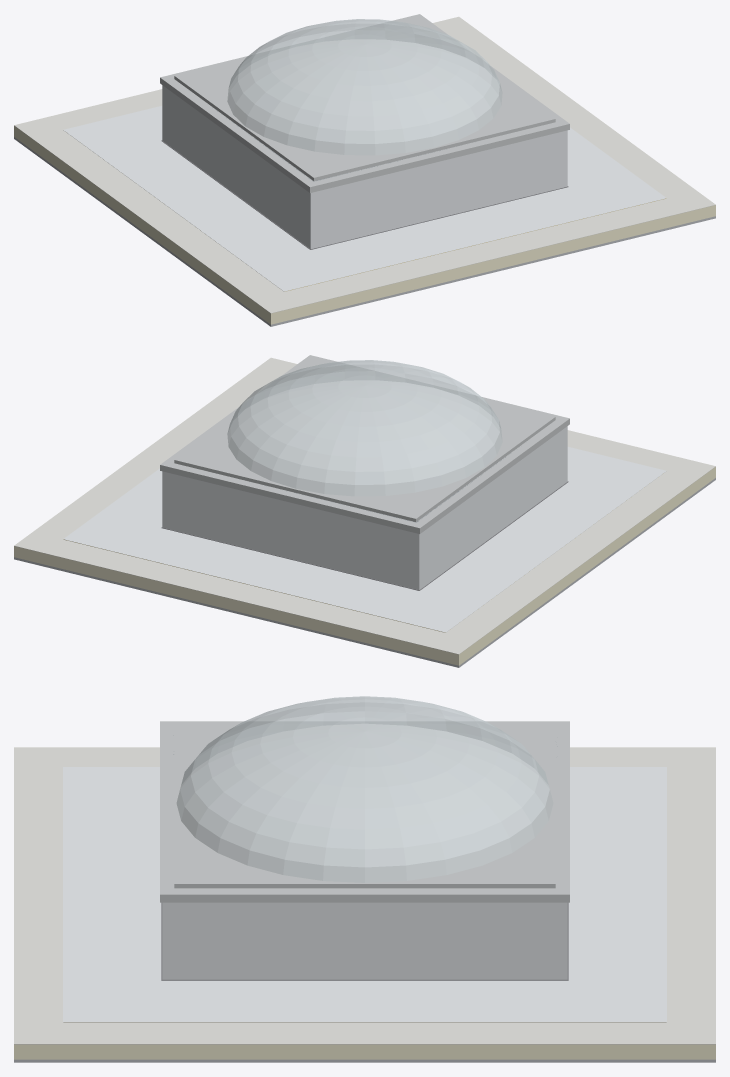
Rendered from curb-skylight-CS-1-TYP.glb.
The picture shows the model from 3 angles, top to bottom: view 1: azimuth 30°, elevation 25°; view 2: azimuth 150°, elevation 25°; view 3: azimuth 270°, elevation 25°; orthographic projection. The views are drawn at different scales.
Parts seen in each view (by area): view 1: existing__unit_dome_base, existing__unit_dome, topcoat__field_apron, existing__membrane, topcoat__curb_wrap, existing__insulation, existing__unit_frame, topcoat__curb_cap, existing__steel_deck; view 2: existing__unit_dome_base, existing__unit_dome, topcoat__field_apron, existing__membrane, topcoat__curb_wrap, existing__insulation, existing__unit_frame, topcoat__curb_cap, existing__steel_deck; view 3: topcoat__field_apron, existing__unit_dome_base, existing__unit_dome, existing__membrane, topcoat__curb_wrap, existing__unit_frame, existing__insulation, topcoat__curb_cap, existing__steel_deck, primer__sealant_bead_2, primer__field_apron.
Boxes of the visible parts, <box> form: existing__unit_dome_base: <box>174,17,555,180</box>; existing__unit_dome: <box>227,19,502,155</box>; topcoat__field_apron: <box>63,106,666,291</box>; existing__membrane: <box>14,16,715,313</box>; topcoat__curb_wrap: <box>162,89,567,249</box>; existing__insulation: <box>14,126,715,324</box>; existing__unit_frame: <box>160,14,569,192</box>; topcoat__curb_cap: <box>162,85,567,201</box>; existing__steel_deck: <box>14,137,715,326</box>; existing__unit_dome_base: <box>174,358,555,521</box>; existing__unit_dome: <box>227,360,502,496</box>; topcoat__field_apron: <box>63,447,666,632</box>; existing__membrane: <box>14,357,715,654</box>; topcoat__curb_wrap: <box>162,430,567,590</box>; existing__insulation: <box>14,467,715,665</box>; existing__unit_frame: <box>160,355,569,533</box>; topcoat__curb_cap: <box>162,426,567,542</box>; existing__steel_deck: <box>14,478,715,667</box>; topcoat__field_apron: <box>63,767,666,1022</box>; existing__unit_dome_base: <box>174,722,555,888</box>; existing__unit_dome: <box>176,696,552,882</box>; existing__membrane: <box>14,747,715,1044</box>; topcoat__curb_wrap: <box>162,909,567,979</box>; existing__unit_frame: <box>160,721,569,902</box>; existing__insulation: <box>14,1044,715,1059</box>; topcoat__curb_cap: <box>162,902,567,916</box>; existing__steel_deck: <box>14,1059,715,1062</box>; primer__sealant_bead_2: <box>161,979,568,980</box>; primer__field_apron: <box>64,1022,665,1022</box>.
Bounding box in the file's own units: 3.2 × 0.9198 × 3.2.
